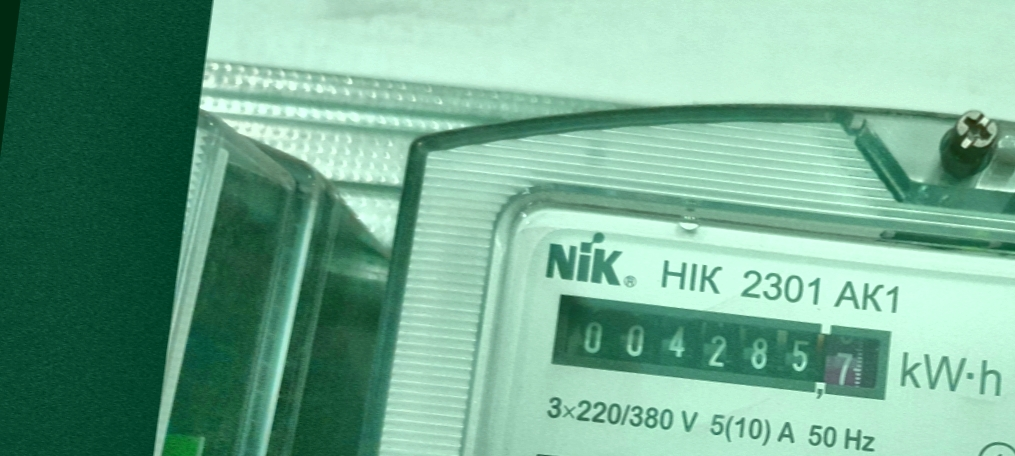0: (623, 322, 649, 361), (581, 319, 606, 357)
2: (706, 333, 730, 371)
4: (667, 324, 689, 361)
5: (788, 337, 813, 375)
7: (831, 351, 855, 389)
8: (746, 335, 772, 374)
screen: (535, 277, 910, 423)
